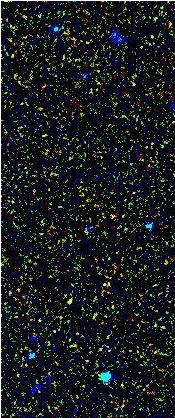star: (53, 284, 83, 314)
